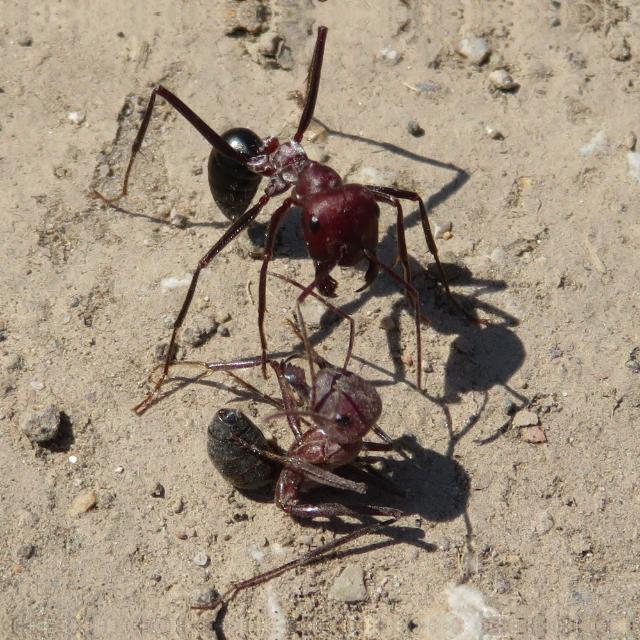Cataglyphis: (181, 90, 423, 308), (239, 344, 405, 528)
